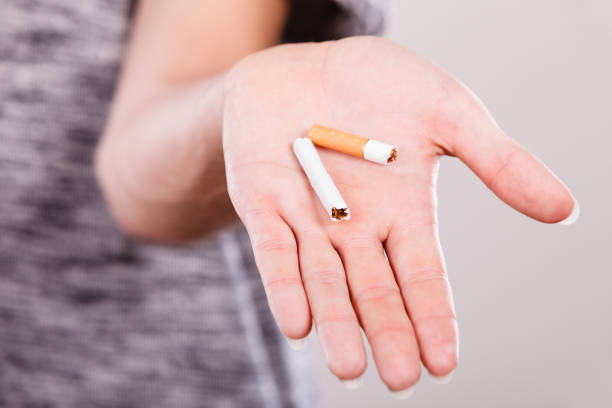cigarette: (291, 136, 352, 223), (304, 121, 400, 167)
